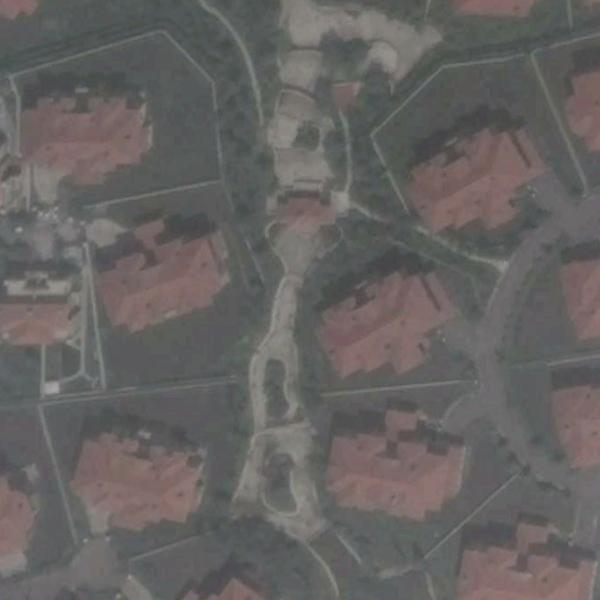Buildings: (83, 421, 198, 524), (25, 87, 144, 179), (113, 229, 213, 316), (0, 266, 70, 358), (2, 453, 42, 578), (179, 574, 276, 600)
